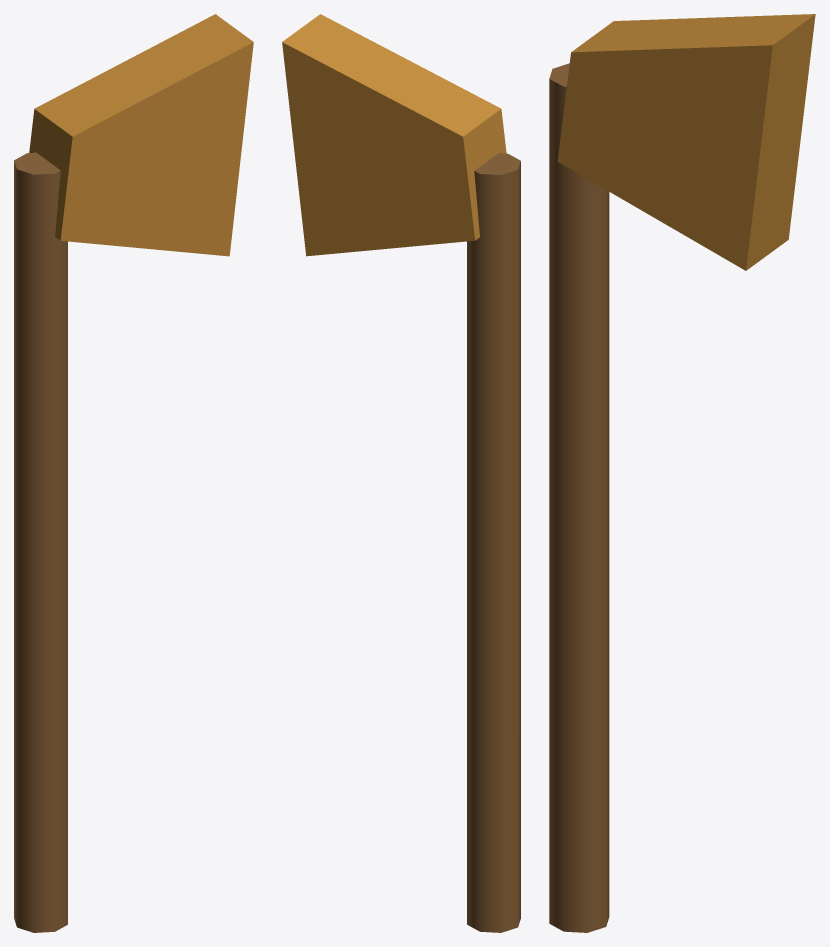
Rendered from iceman-axe.glb.
The picture shows the model from 3 angles, left to right: view 1: azimuth 30°, elevation 25°; view 2: azimuth 150°, elevation 25°; view 3: azimuth 330°, elevation 25°; orthographic projection. The views are drawn at different scales.
Visible parts, largest first — view 1: Haft, CopperHead; view 2: Haft, CopperHead; view 3: CopperHead, Haft.
Part boxes in pixels (x1=…): Haft: x1=14, y1=152, x2=67, y2=932; CopperHead: x1=29, y1=14, x2=253, y2=256; Haft: x1=467, y1=153, x2=520, y2=932; CopperHead: x1=282, y1=14, x2=506, y2=256; CopperHead: x1=557, y1=14, x2=815, y2=270; Haft: x1=549, y1=63, x2=609, y2=932.
Bounding box in the file's own units: 0.18 × 0.67 × 0.055.
